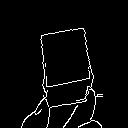cube: (30, 27, 99, 107)
